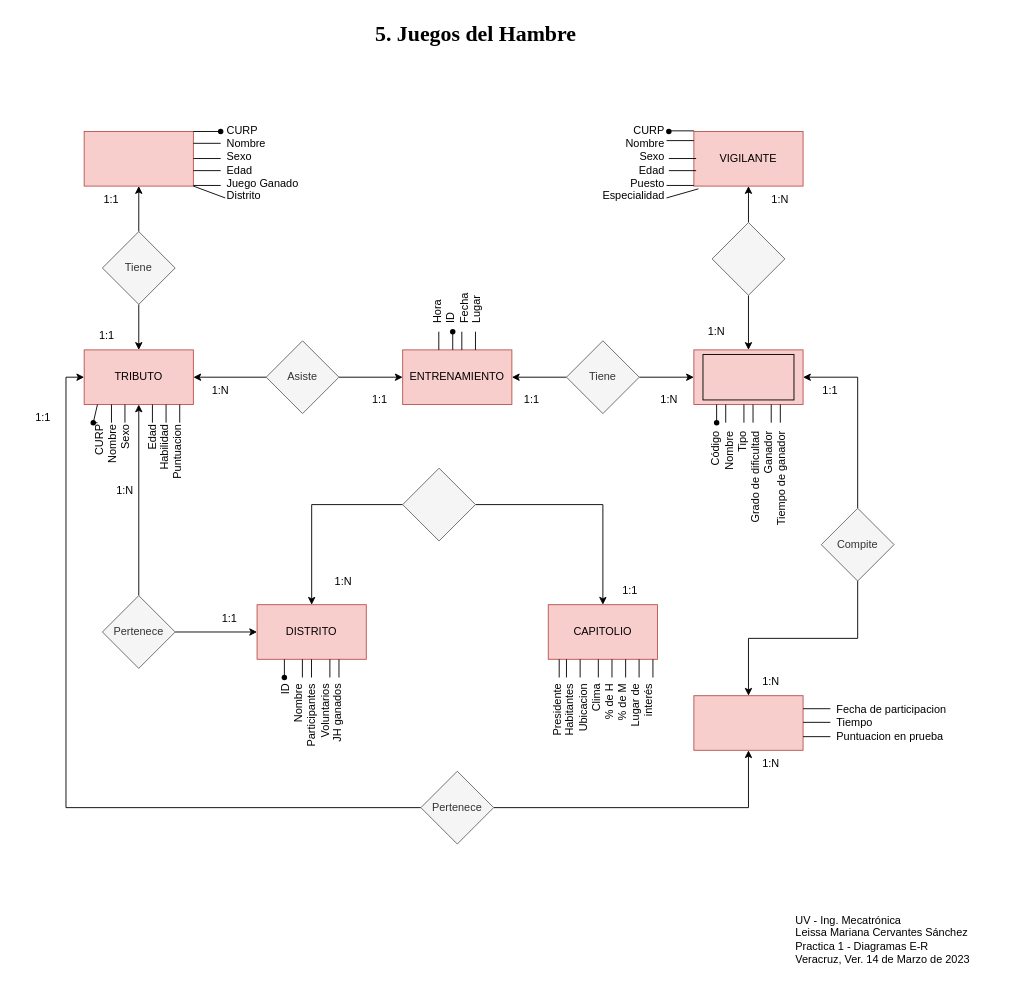
Image size: 1027x1005. Some labels were removed from this diagram. The shapes that lost their labels are listed below. From the top down, each one's box as (x1, y1, x2, y2) in pixels, then its label:
(83, 131, 193, 186): MENTOR
(711, 222, 785, 295): Evalúa
(693, 349, 803, 404): PRUEBAS
(402, 467, 475, 541): Controlado
(693, 695, 803, 750): PARTICIPANTE
